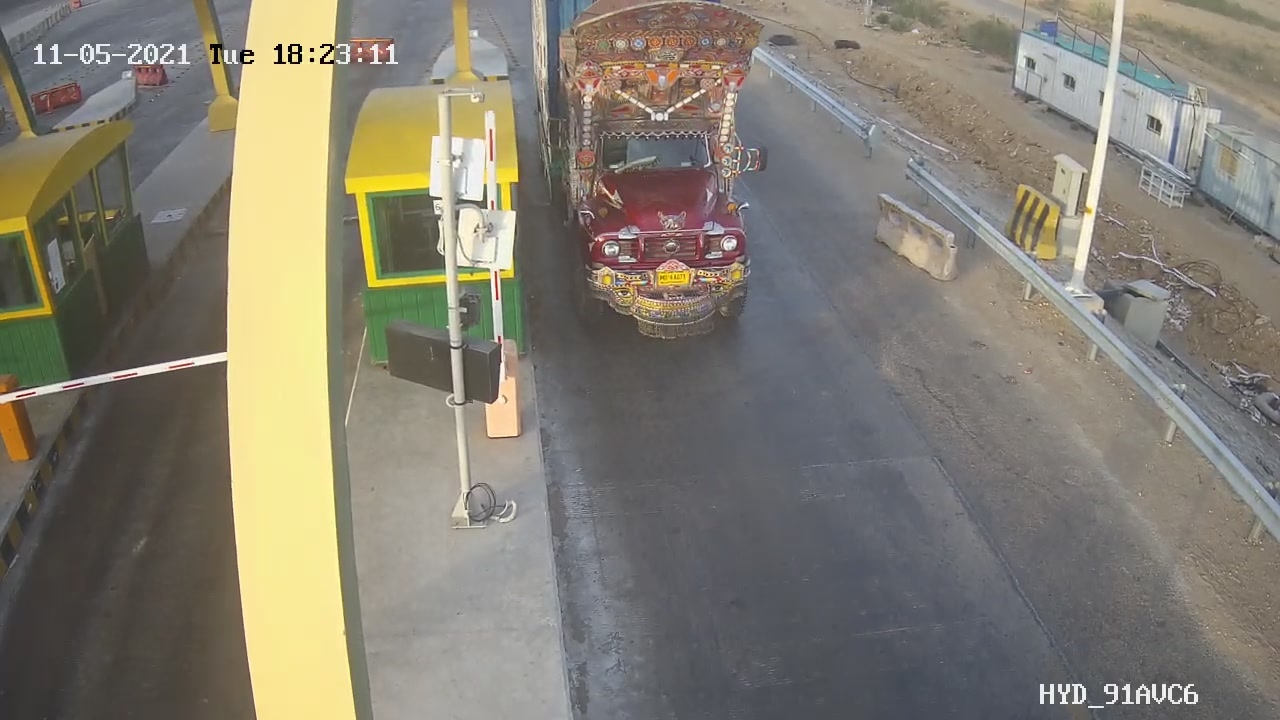F5: (522, 3, 782, 359)
